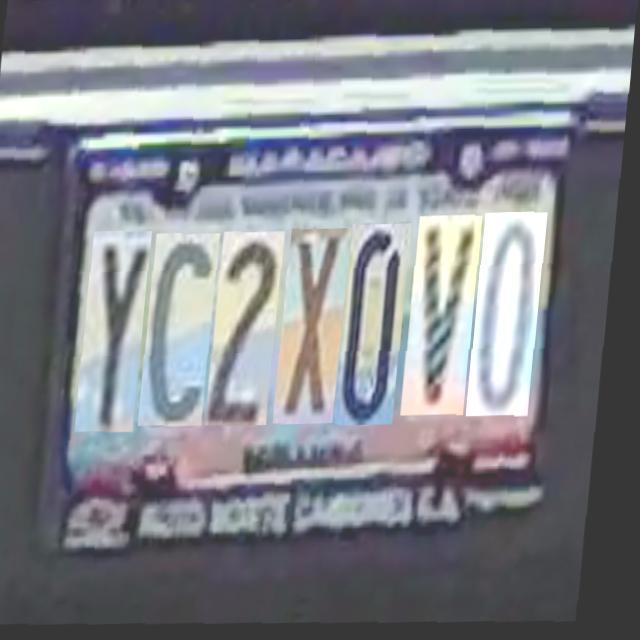0: (340, 218, 413, 420)
2: (212, 228, 286, 422)
C: (144, 230, 221, 424)
O: (472, 204, 548, 408)
V: (407, 208, 484, 408)
X: (279, 223, 353, 420)
Y: (81, 229, 153, 431)
